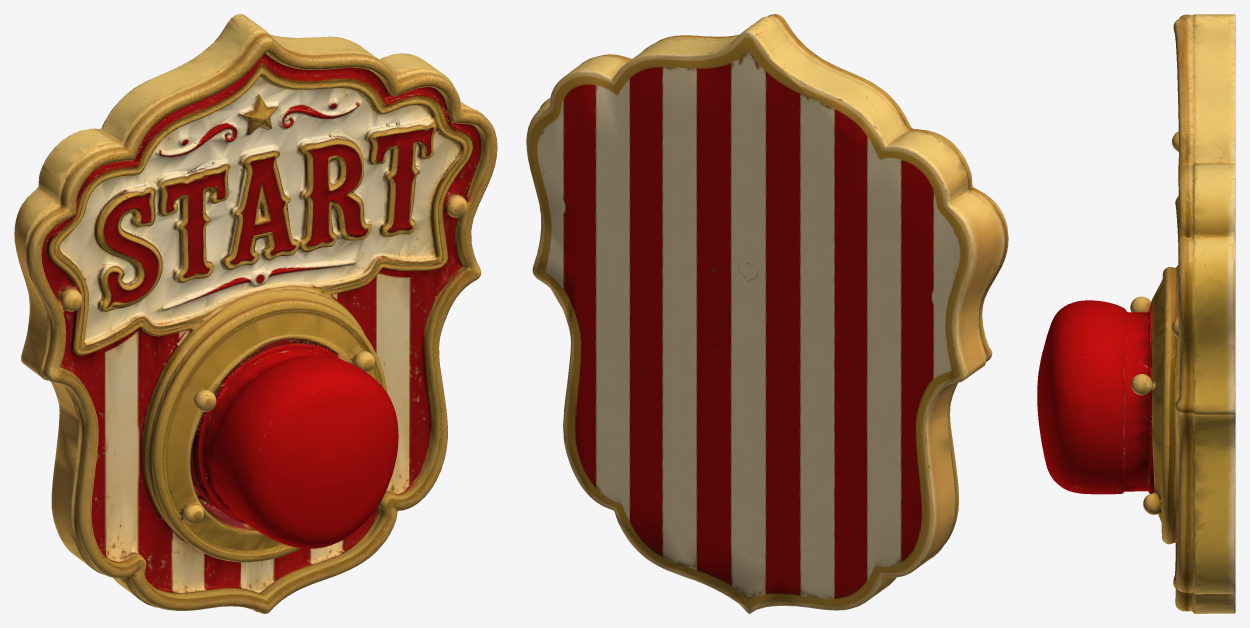
File: Meshy_AI_Vintage_Start_Crest_0515210156_texture.fbx
3 views of the same model, side by side, from view 1: azimuth 30°, elevation 25°; view 2: azimuth 150°, elevation 25°; view 3: azimuth 270°, elevation 25° (orthographic).
Parts seen in each view (by area): view 1: Mesh_0; view 2: Mesh_0; view 3: Mesh_0.
Boxes of the visible parts, box(x1,y1,x2,y2) form: Mesh_0: box(14, 14, 497, 613); Mesh_0: box(526, 14, 1008, 613); Mesh_0: box(1037, 14, 1235, 613).
Bounding box in the file's own units: 160 × 191 × 59.52.
Materials: 1 (1 with a texture image).
